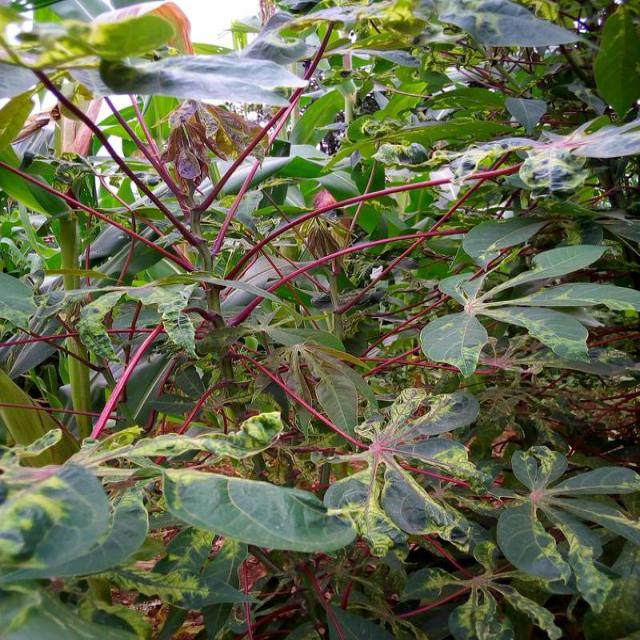cassava leaf: (0, 0, 638, 638), (160, 466, 358, 555)
